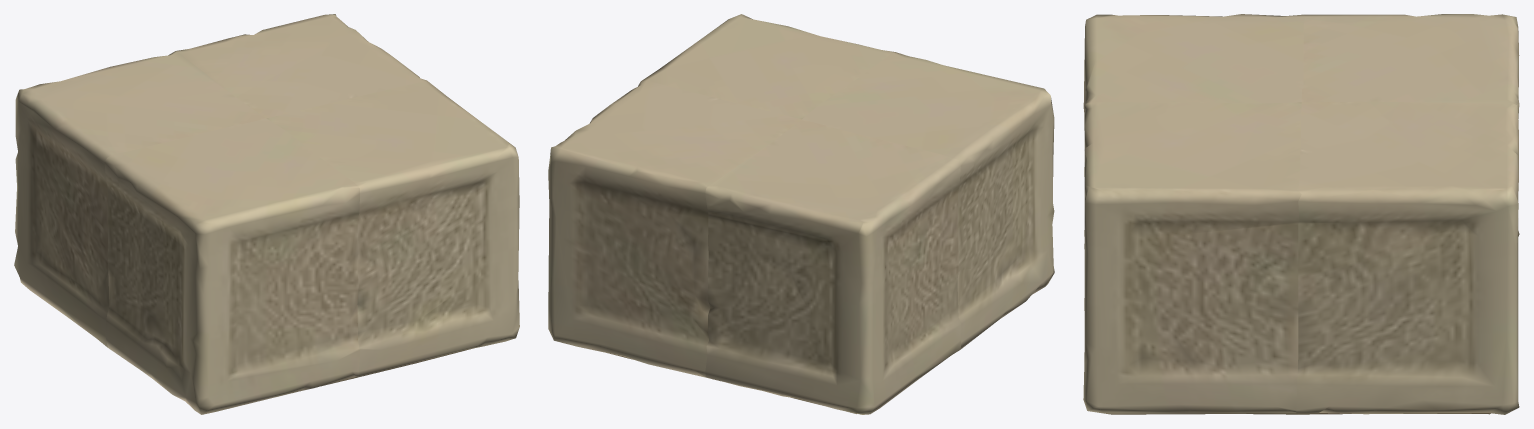
File: ZhuZi_6_57d2bc.glb
The picture shows the model from 3 angles, left to right: view 1: azimuth 30°, elevation 25°; view 2: azimuth 150°, elevation 25°; view 3: azimuth 270°, elevation 25°; orthographic projection. The views are drawn at different scales.
Parts seen in each view (by area): view 1: ZhuZi_6; view 2: ZhuZi_6; view 3: ZhuZi_6.
Part boxes in pixels (left/top/right/bottom): ZhuZi_6: left=14, top=14, right=519, bottom=414; ZhuZi_6: left=548, top=14, right=1054, bottom=414; ZhuZi_6: left=1083, top=14, right=1519, bottom=414.
Size of the model in its own units: 0.3762 by 0.2214 by 0.3788.
Materials: 1 (1 with a texture image).
